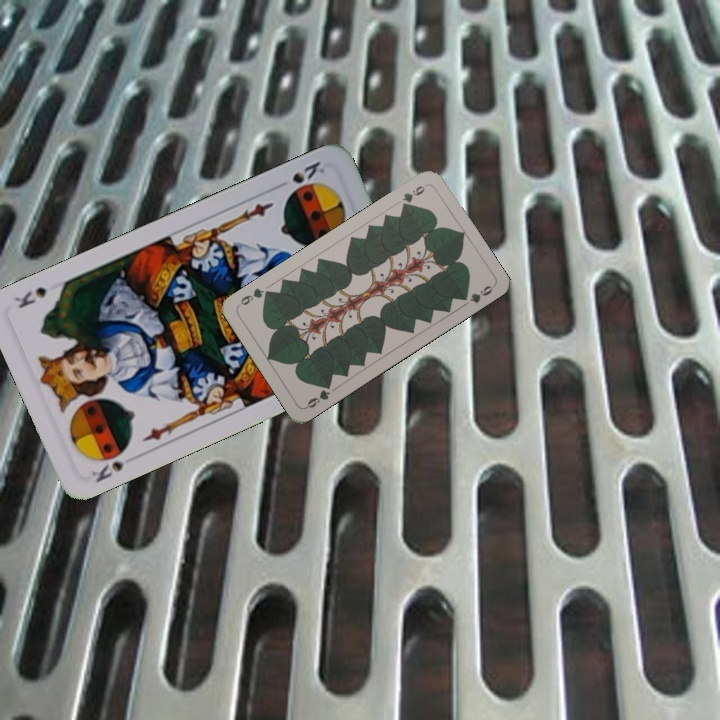G9: (301, 379, 334, 411), (398, 181, 428, 211)
SK: (88, 443, 140, 485), (284, 157, 328, 198)
